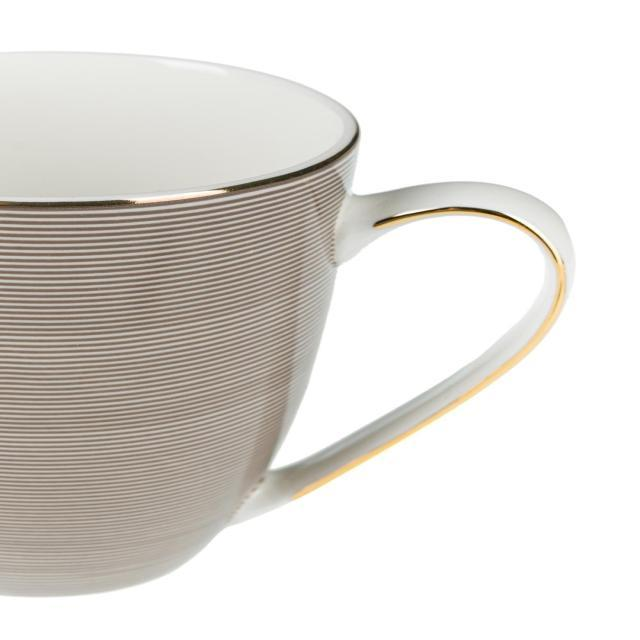Coffee Mug: (2, 50, 580, 600)
